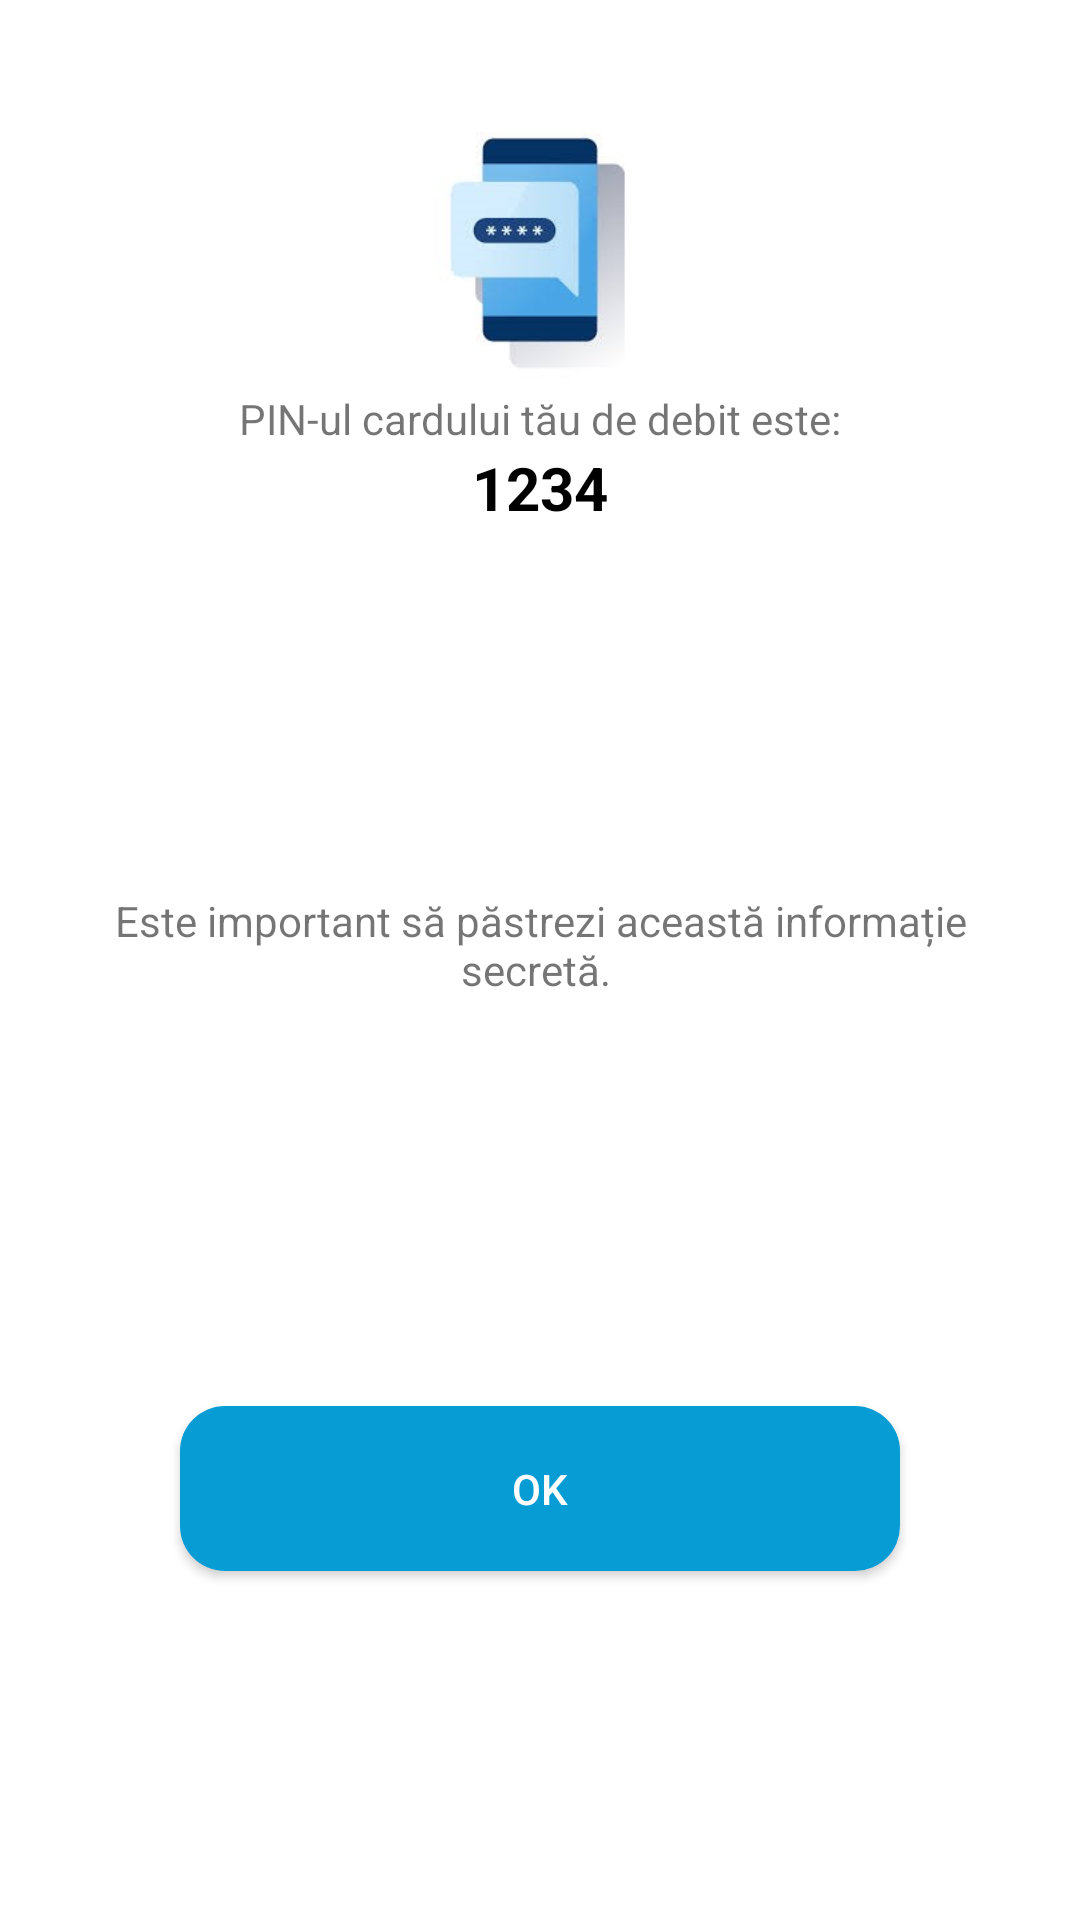

Named icons in this screenshot (1080x1920) and their centers, point (x, y):
pinseenicon: point (538, 251)
